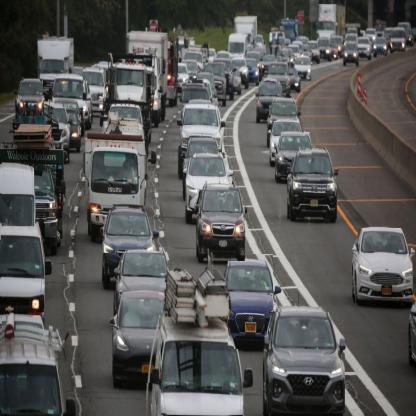car: (162, 309, 244, 416), (266, 313, 346, 415), (3, 317, 67, 416), (86, 133, 146, 211), (355, 229, 414, 305), (229, 255, 274, 350), (115, 293, 161, 385), (2, 224, 46, 314), (288, 151, 339, 221), (200, 189, 246, 263), (104, 206, 161, 254), (3, 161, 36, 228), (119, 248, 169, 292), (187, 154, 230, 192), (184, 104, 222, 140), (84, 66, 107, 113), (56, 78, 87, 110), (18, 80, 44, 117), (277, 133, 313, 159), (256, 84, 279, 120), (272, 119, 306, 142), (271, 97, 299, 123), (186, 137, 219, 159), (209, 64, 226, 100), (183, 84, 211, 105), (69, 112, 84, 149), (271, 64, 293, 87), (345, 44, 360, 70), (296, 58, 312, 81), (392, 28, 406, 53), (230, 38, 246, 57), (375, 36, 388, 59), (361, 39, 373, 61), (250, 63, 260, 89), (332, 35, 344, 53), (320, 42, 332, 60)
container: (318, 5, 347, 41)
truck: (109, 57, 156, 105), (38, 37, 75, 78), (235, 17, 259, 38)
